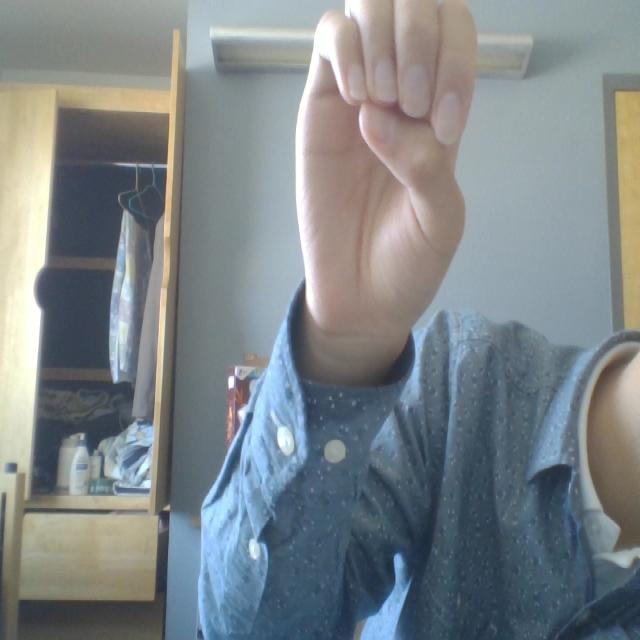E: (242, 0, 536, 369)
